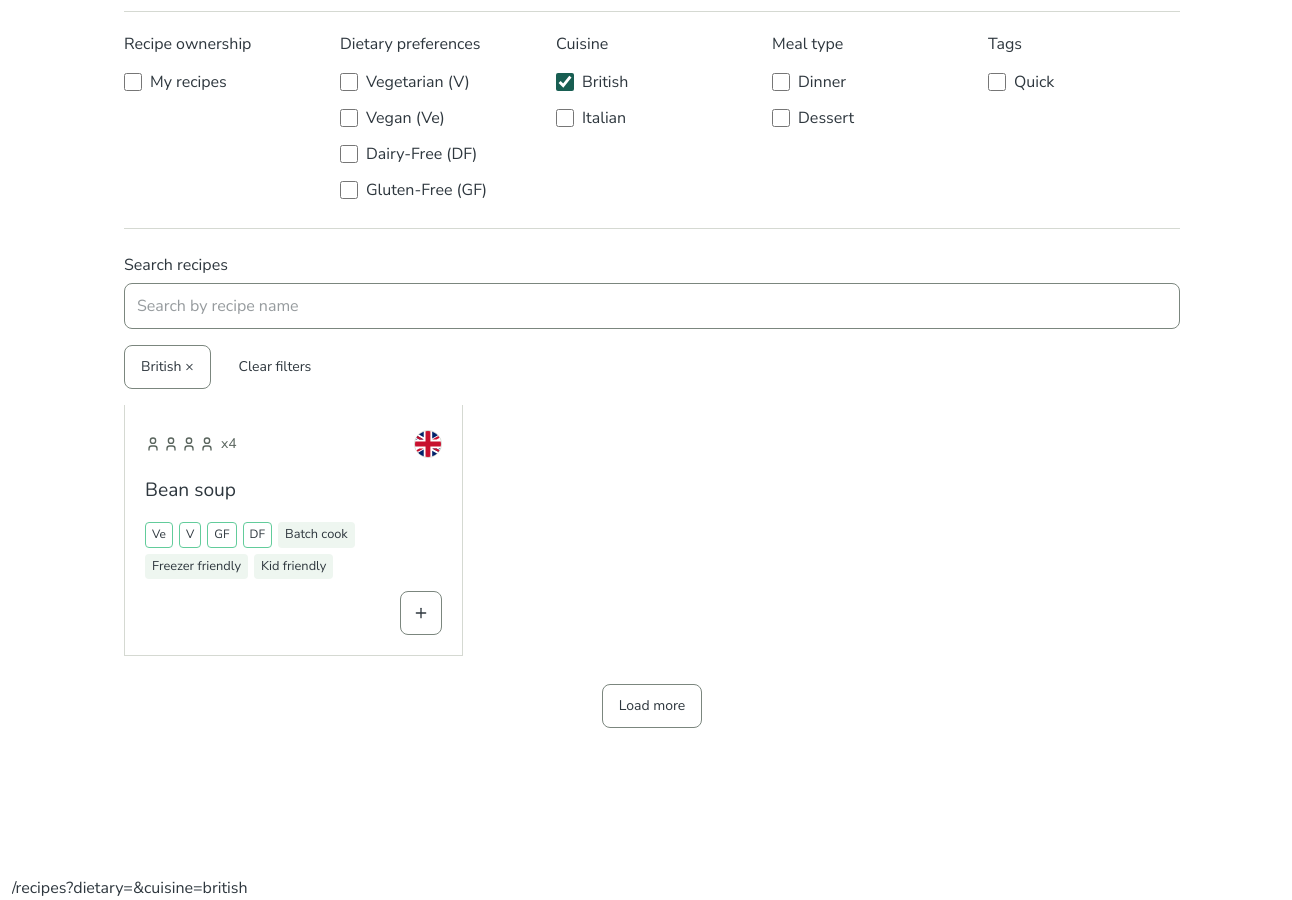
honours URL filters and loads another page without losing the first
(page scrolled)
Expected: the link "Bean soup" is shown, [145,477,236,503]
Click the button "Load more": (652, 706) [602,684,702,728]
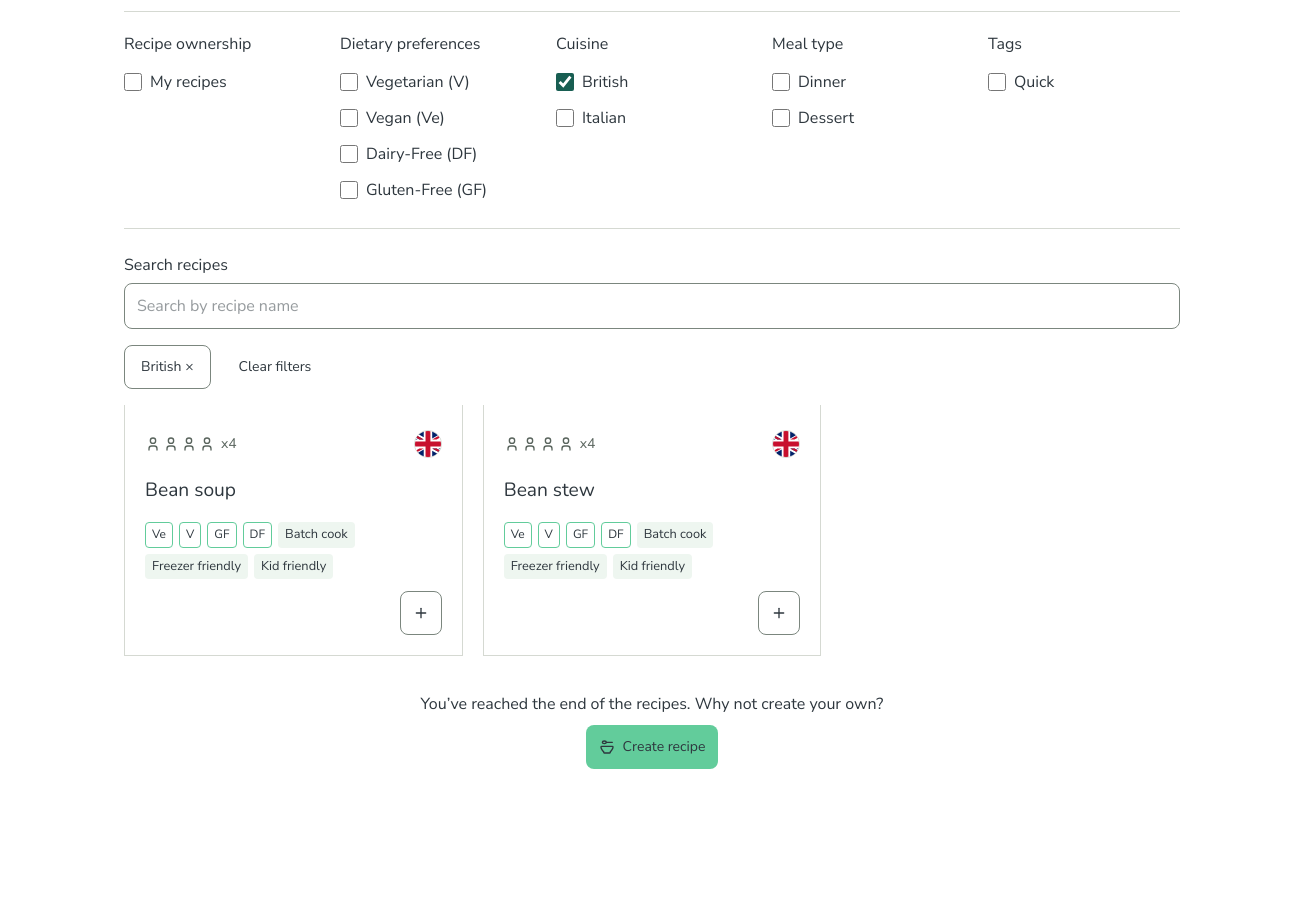
Expected: the link "Bean soup" is shown, [145,477,236,503]
Expected: the link "Bean stew" is shown, [504,477,595,503]
Expected: the button "Load more" is gone
